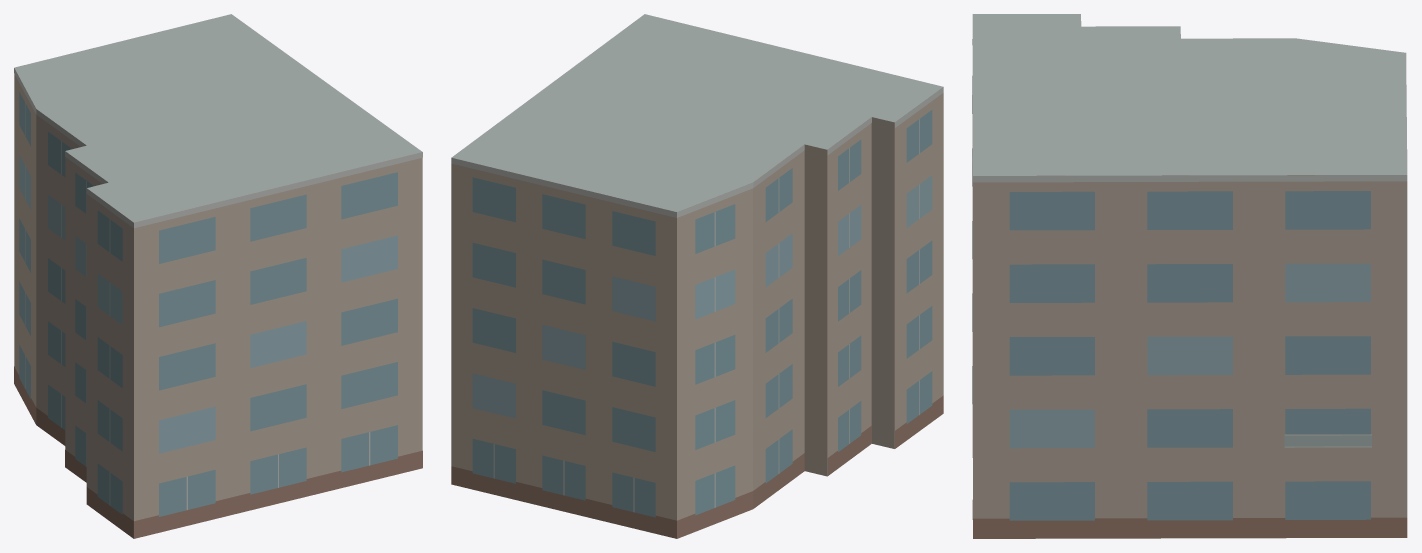
The model's file is survey-upis-32810063.glb.
3 renders of one model, left to right at view 1: azimuth 30°, elevation 25°; view 2: azimuth 150°, elevation 25°; view 3: azimuth 270°, elevation 25°, orthographic. The views are drawn at different scales.
Parts seen in each view (by area): view 1: survey-upis-32810063.tmp; view 2: survey-upis-32810063.tmp; view 3: survey-upis-32810063.tmp.
Part boxes in pixels (x1,y1,x2,y2): survey-upis-32810063.tmp: [14, 14, 422, 538]; survey-upis-32810063.tmp: [451, 14, 943, 538]; survey-upis-32810063.tmp: [972, 14, 1407, 538].
Size of the model in its own units: 13.12 by 13.7 by 14.89.
